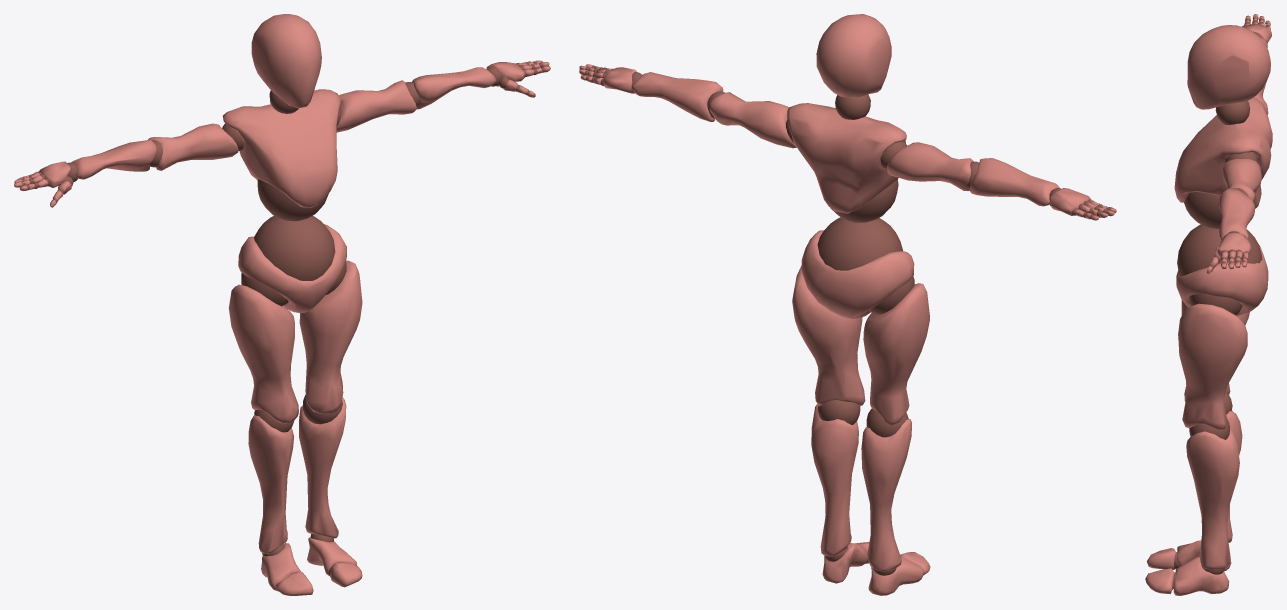
Rendered from xbot_v0.0.2_noarm.fbx.
3 renders of one model, left to right at view 1: azimuth 30°, elevation 25°; view 2: azimuth 150°, elevation 25°; view 3: azimuth 270°, elevation 25°, orthographic. The views are drawn at different scales.
Parts seen in each view (by area): view 1: Beta_Surface; view 2: Beta_Surface; view 3: Beta_Surface.
Part boxes in pixels (box(x1,y1,x2,y2)): Beta_Surface: box(14, 14, 550, 595); Beta_Surface: box(579, 14, 1116, 595); Beta_Surface: box(1145, 14, 1272, 595).
Bounding box in the file's own units: 199 × 200 × 41.95.
